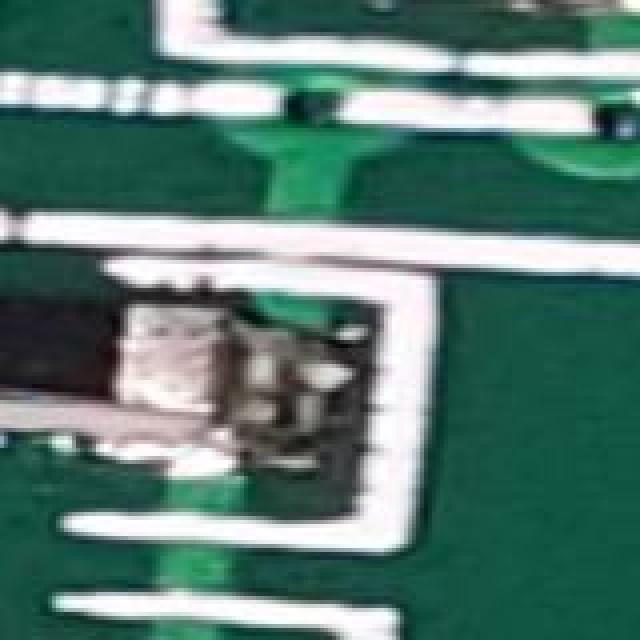resistor: (0, 280, 296, 484)
